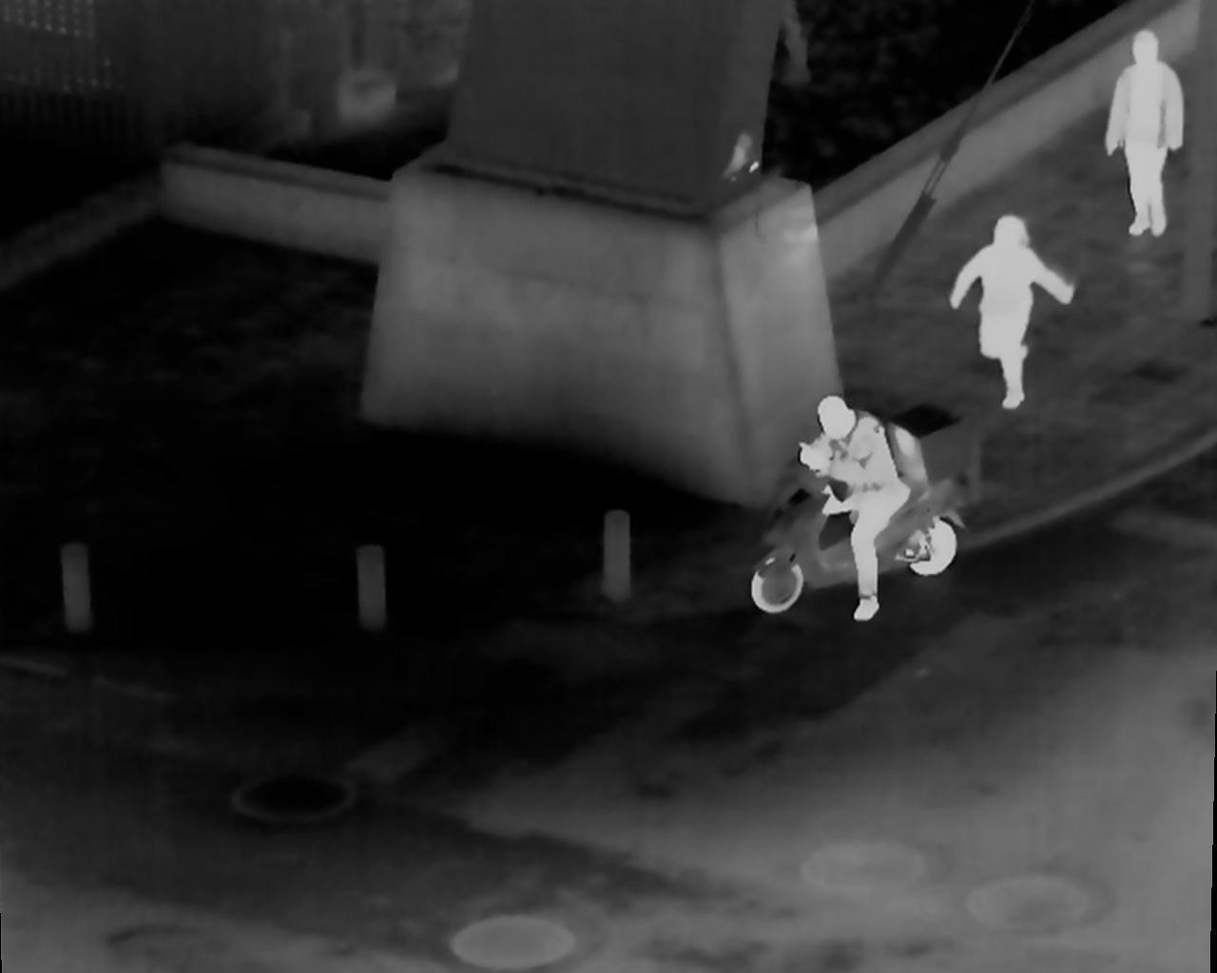person: (807, 393, 936, 620), (961, 180, 1078, 409), (1111, 24, 1188, 225)
